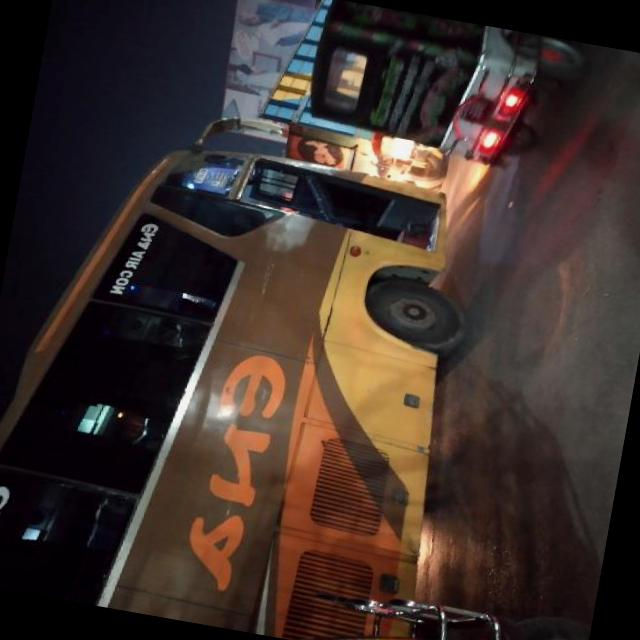bus: (0, 81, 499, 640)
motorcycle: (304, 0, 585, 172)
truck: (259, 0, 465, 182)
